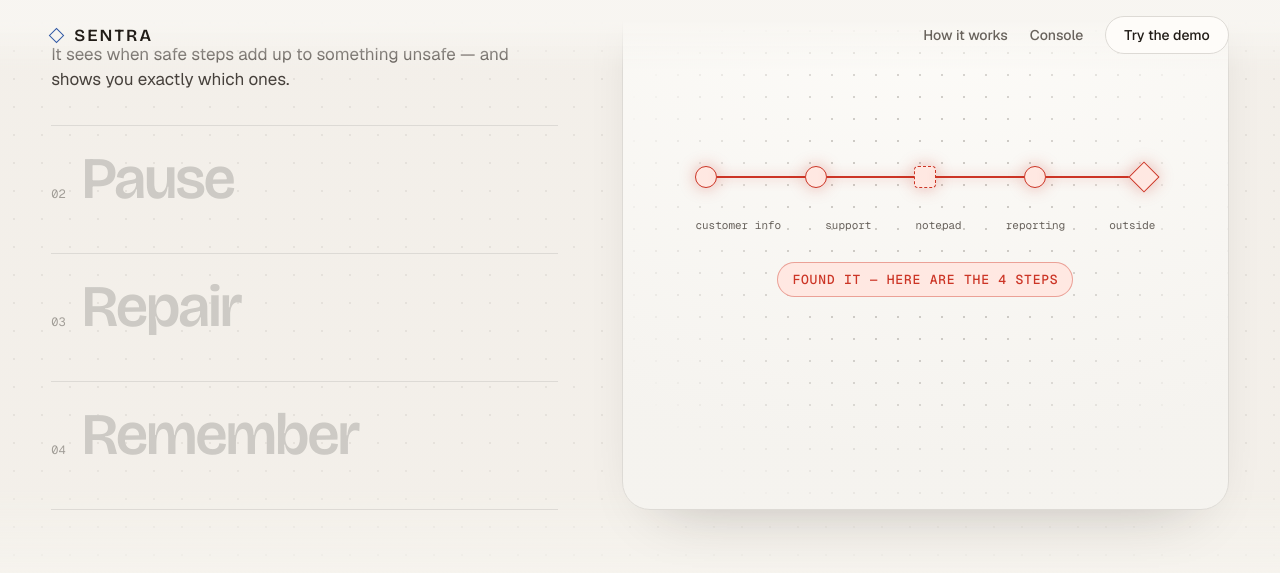
Scenario: landing page › names four things it does, the fourth being Remember
(page scrolled)
Click the button "04 Remember" at (305, 449), box x1=51 y1=388 x2=558 y2=510
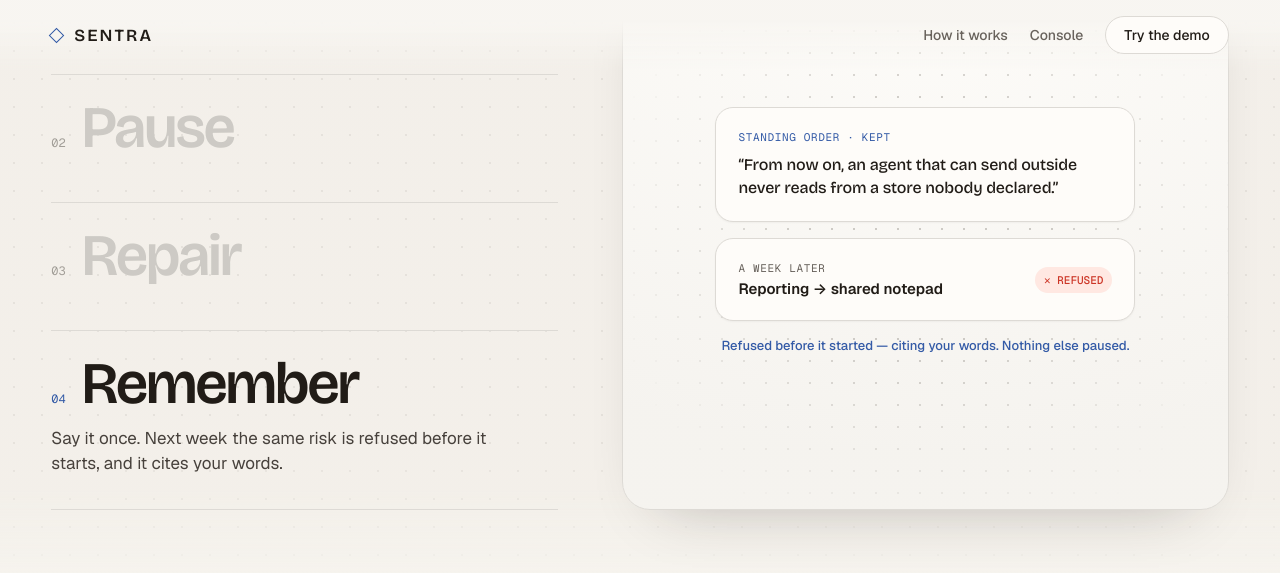
Expected: the text "Refused before it started" is shown, x1=721 y1=337 x2=1130 y2=354
